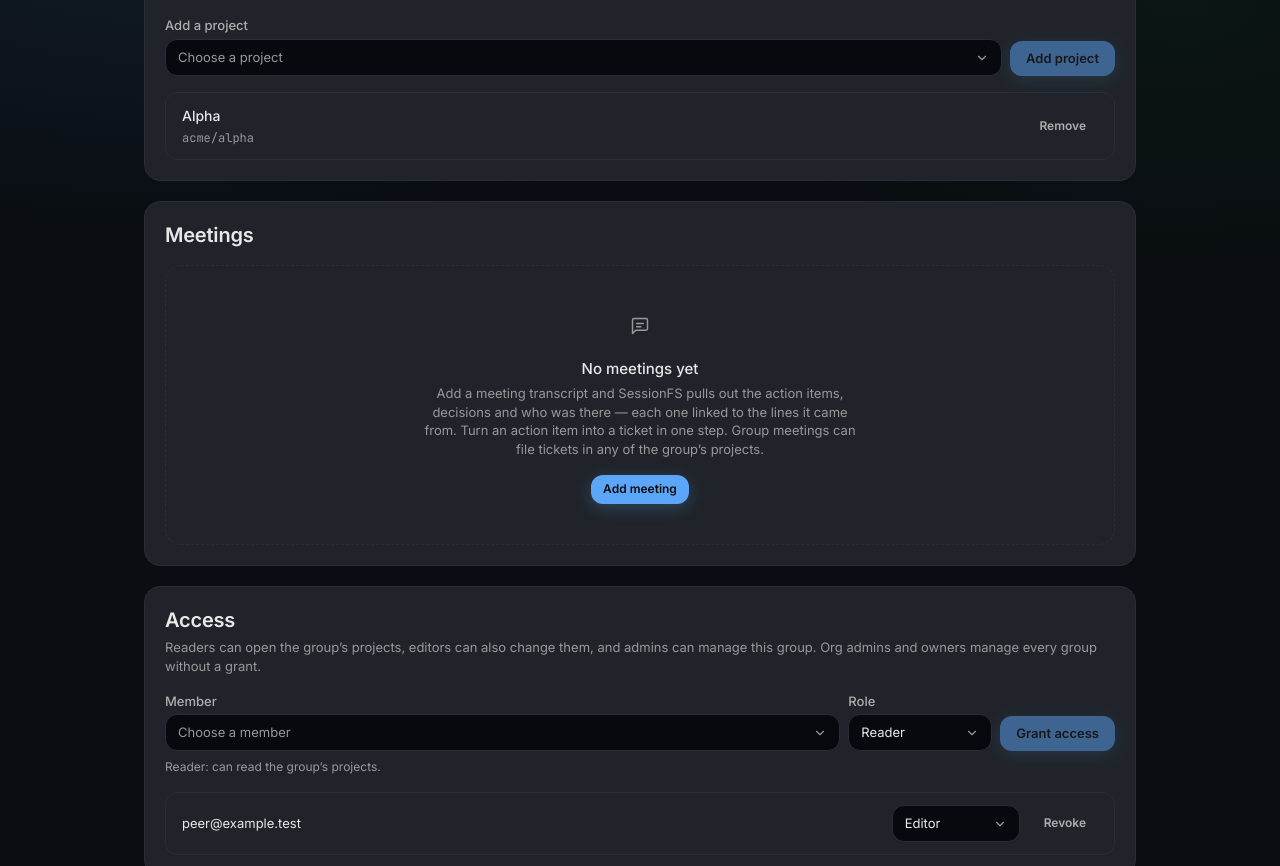
Scenario: GroupDetailPage — group admin › shows not_org_member when the grantee left the org
(page scrolled)
Expected: the text "peer@example.test" is shown, top-left (182, 815), bottom-right (301, 831)
Step 1. Click the button "Choose a member" → (234,732), box top-left (165, 714), bottom-right (840, 751)
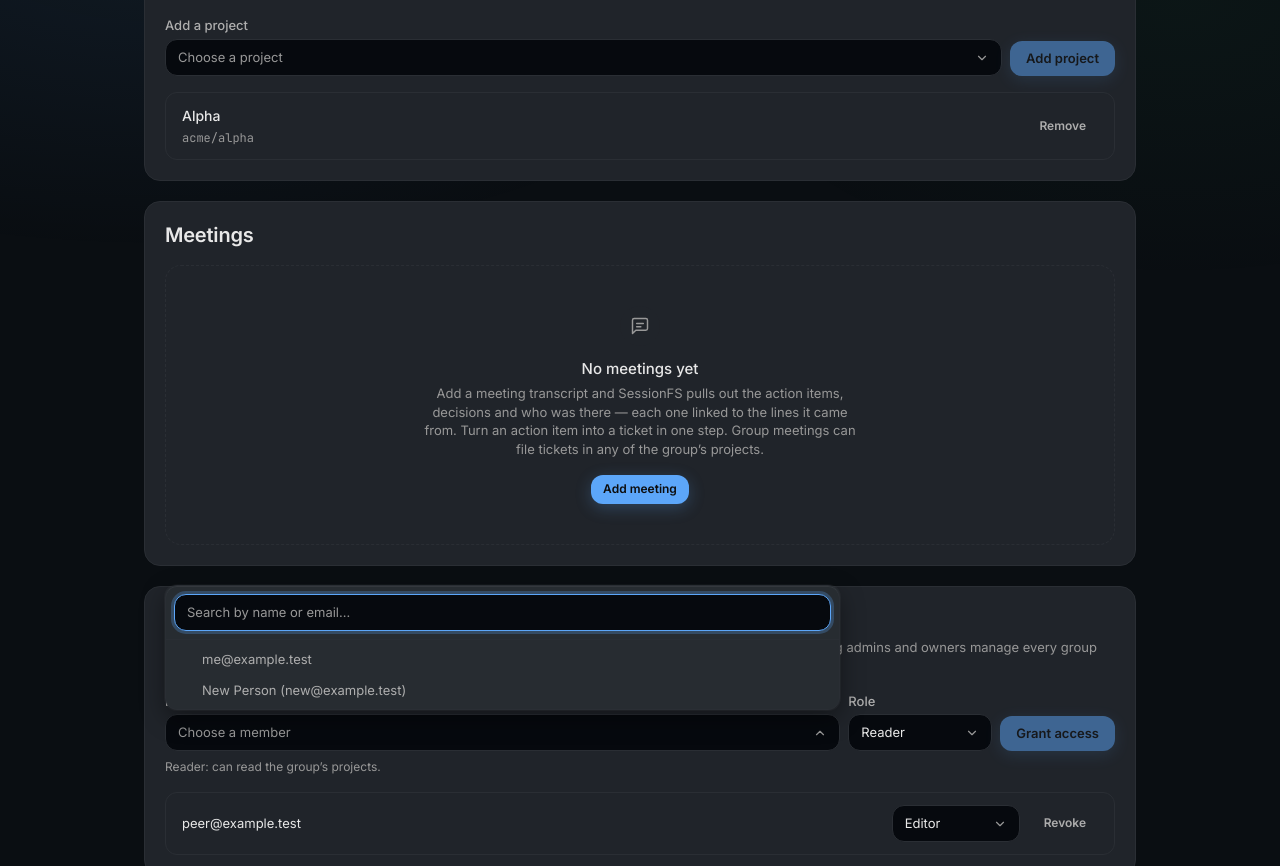
Step 2. Click the option "New Person (new@example.test)" → (304,690), box top-left (202, 682), bottom-right (406, 698)
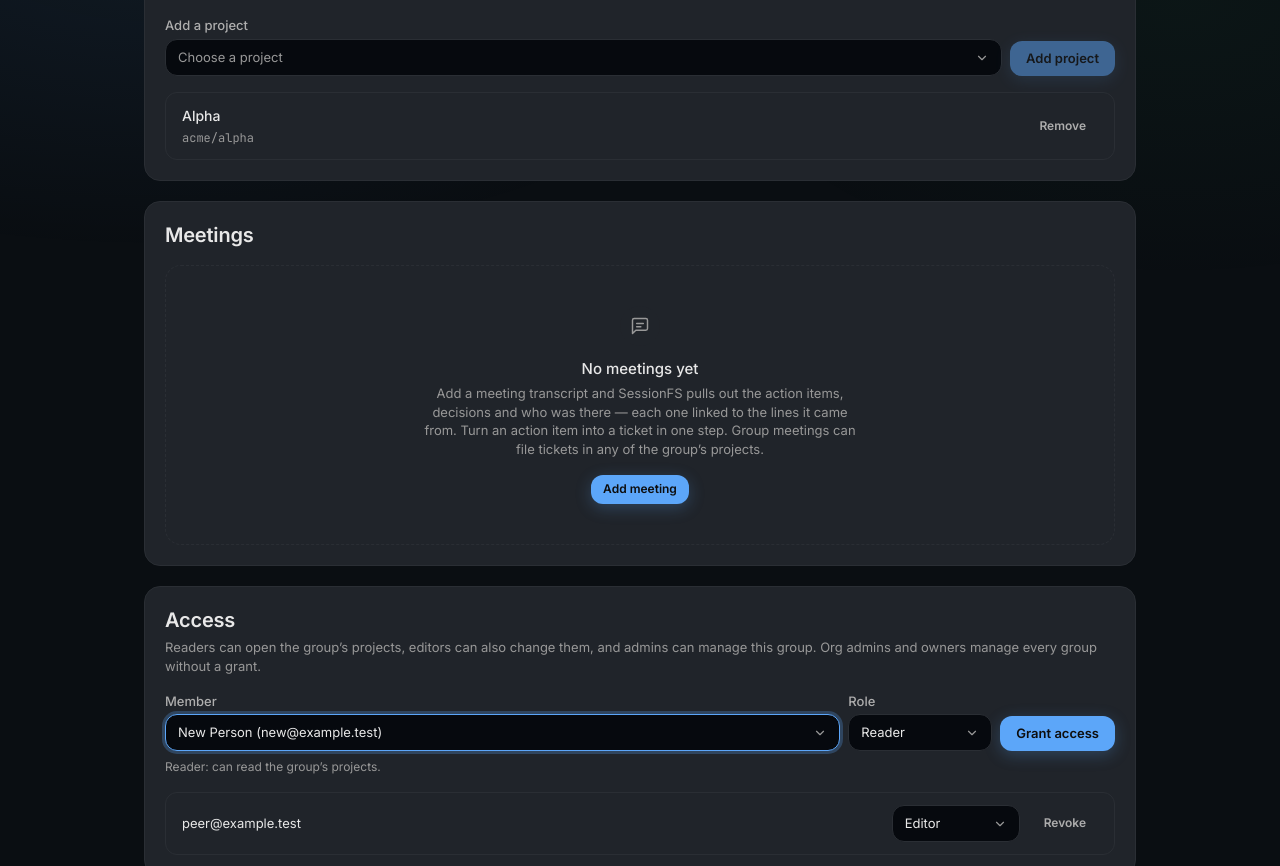
Step 3. Click the button "Grant access" → (1058,734), box top-left (1000, 716), bottom-right (1115, 751)
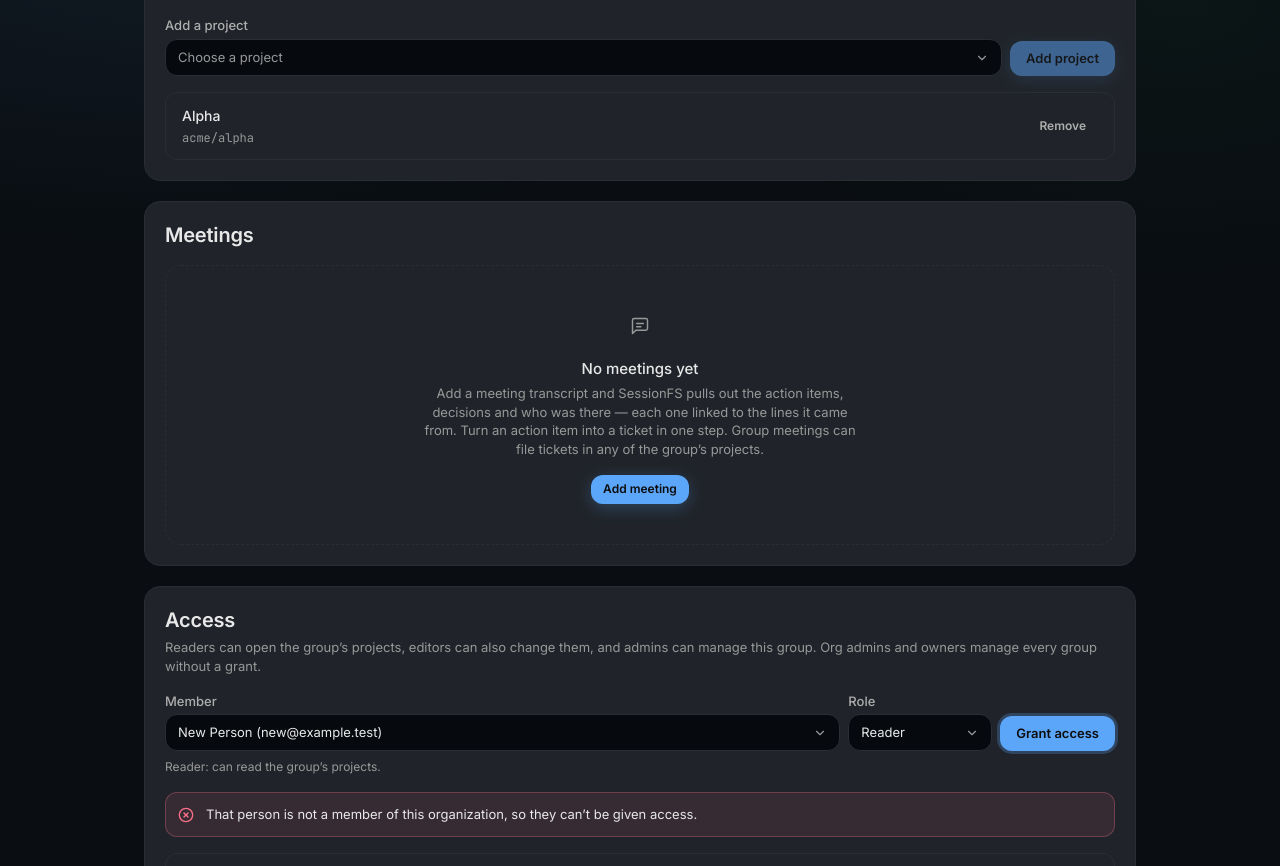
Result: the text "not a member of this organization" is shown at top-left (206, 806), bottom-right (697, 822)
